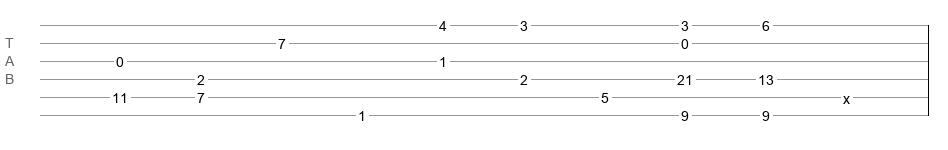0: (116, 54, 124, 64), (681, 36, 689, 46)
1: (358, 108, 366, 118), (439, 54, 447, 64)
11: (112, 90, 128, 100)
13: (758, 72, 774, 82)
2: (197, 72, 205, 82), (520, 72, 528, 82)
21: (677, 72, 693, 82)
3: (520, 18, 528, 28), (681, 18, 689, 28)
4: (439, 18, 447, 28)
5: (601, 90, 609, 100)
6: (762, 18, 770, 28)
7: (197, 90, 205, 100), (278, 36, 286, 46)
9: (681, 108, 689, 118), (762, 108, 770, 118)
x: (843, 91, 850, 99)
